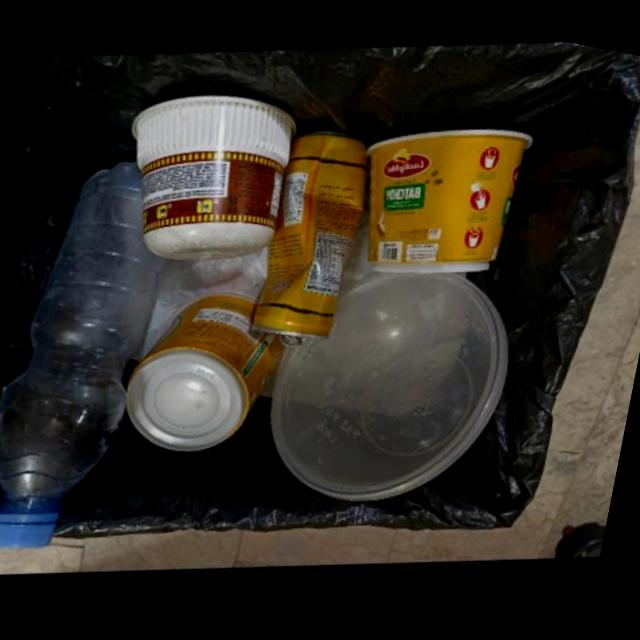chai_nhua_pet: (0, 162, 171, 553)
hop_nhua: (277, 275, 515, 507), (135, 93, 300, 263), (133, 291, 290, 457), (368, 131, 535, 280)
nhom: (256, 132, 371, 341)
